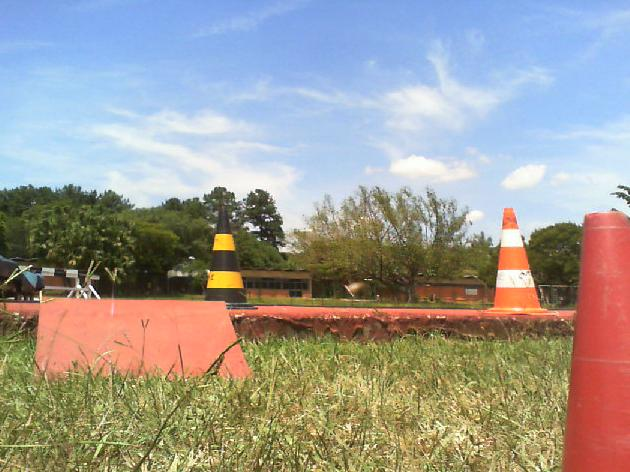0 cone: (560, 211, 630, 472), (479, 206, 554, 314), (204, 205, 258, 310)
